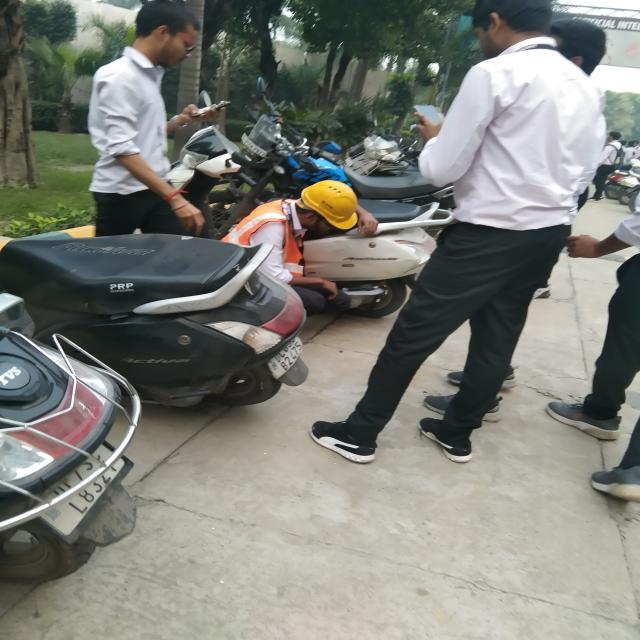safe: (243, 162, 372, 318)
unsafe: (344, 4, 606, 472), (75, 0, 211, 232)
